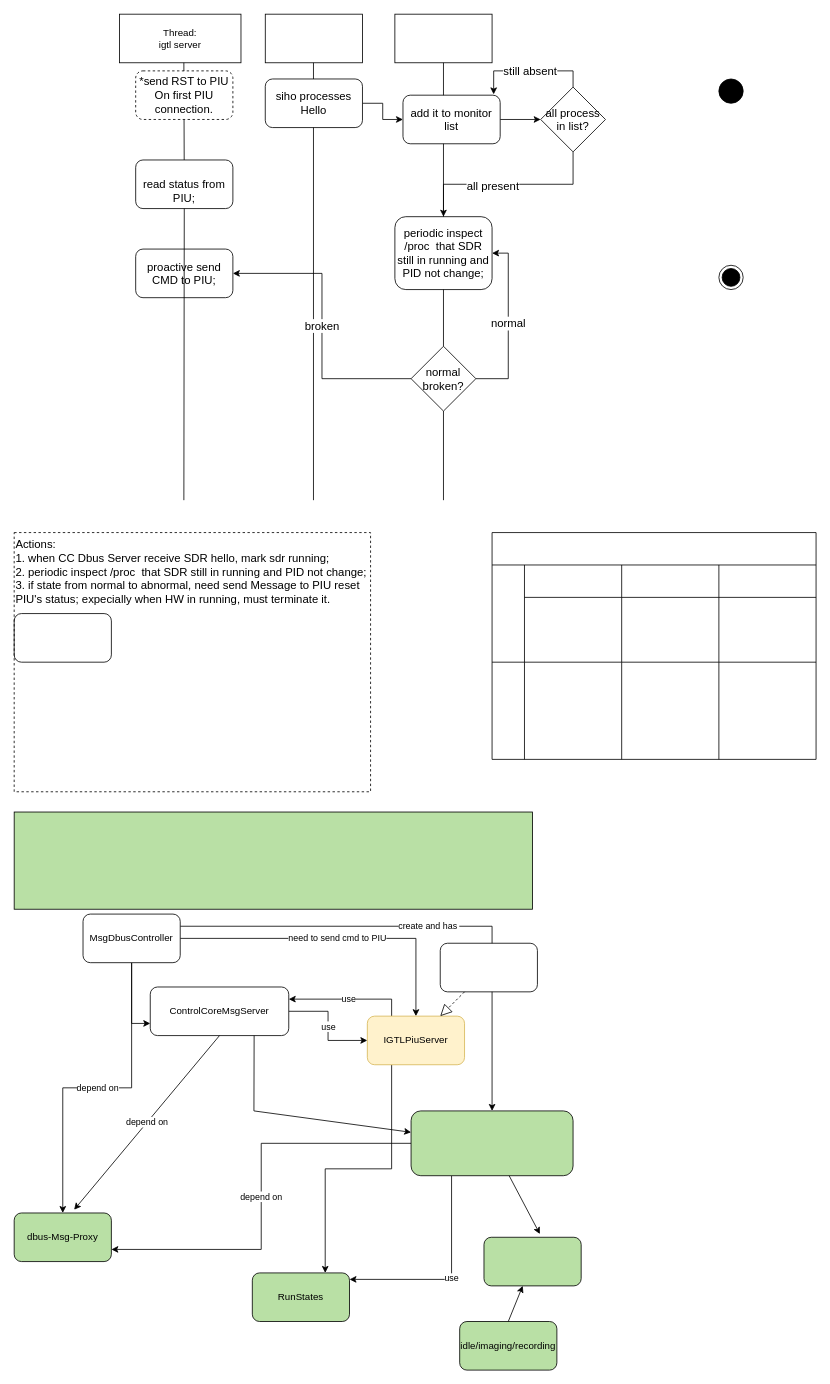
Some shapes in this 830 by 1384 pixel diagram are drawn without their labels. Each missing label, with the box of its shape:
Action:: (13, 613, 111, 662)
Class Dependency below for the dependencies of classed in CC;: (13, 811, 533, 909)
Cross-Functional Flowchart: (491, 532, 816, 759)
IgtlSenderInterface: (439, 942, 537, 992)
PiuCmdControl SihoPiuMessageProcessor: (410, 1110, 573, 1176)
Thread: dbus server: (264, 13, 362, 63)
Thread: process monitor: (394, 13, 492, 63)
WorkingState/ BaseState: (483, 1236, 581, 1286)
